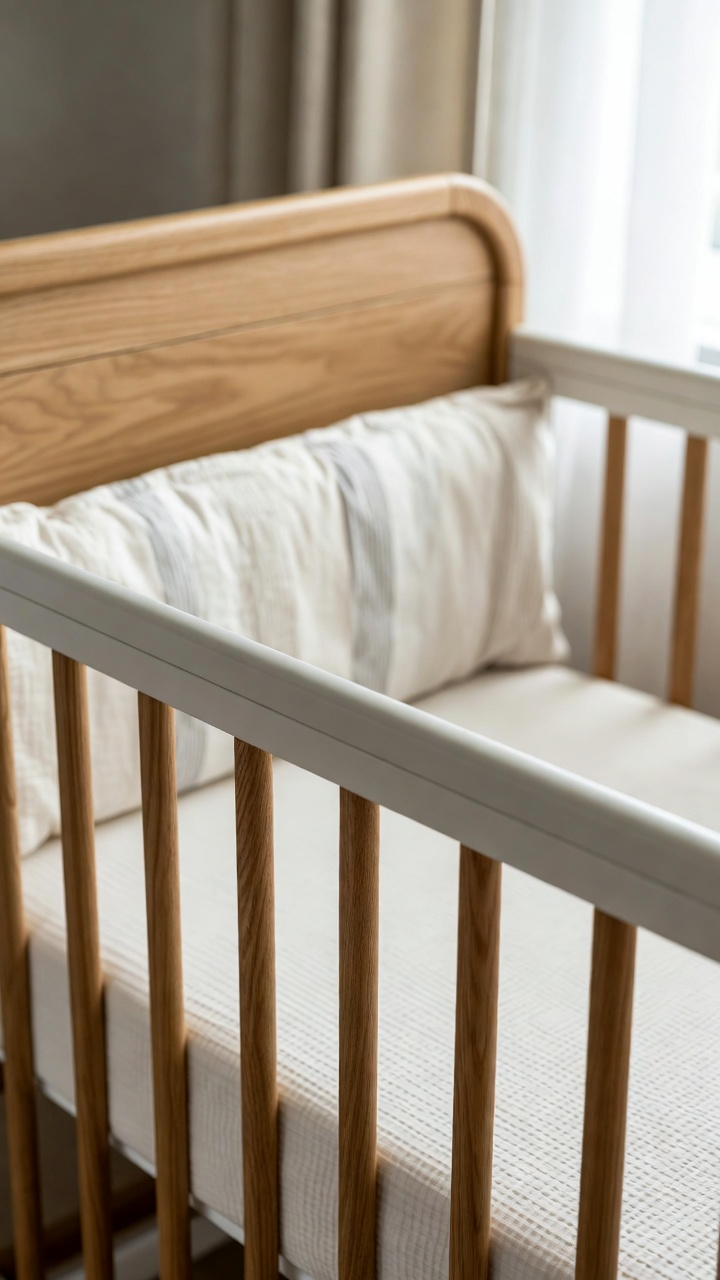crib: (0, 541, 719, 1279)
